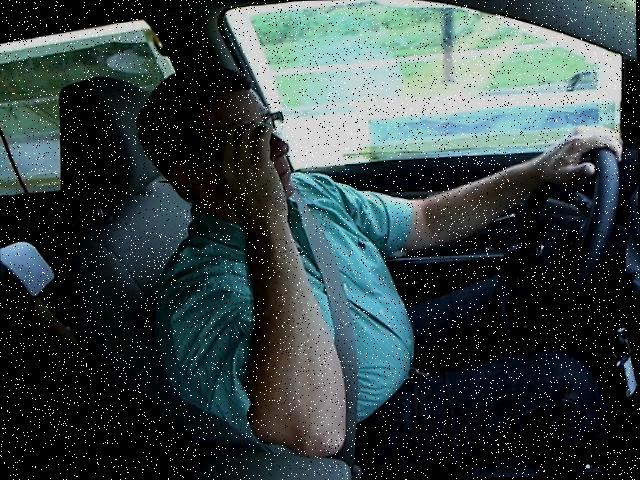c6 - Hair and Makeup: (122, 55, 632, 368)
